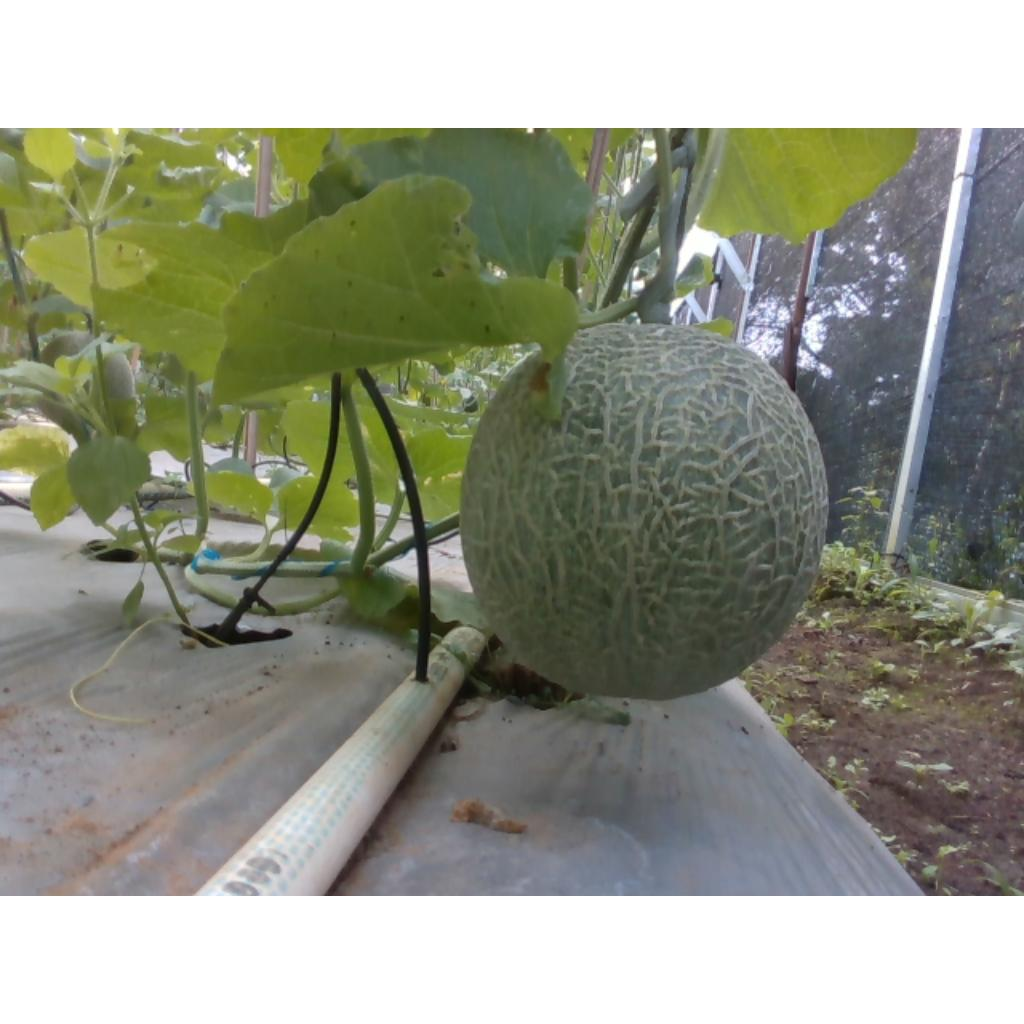melon: (462, 323, 830, 700)
